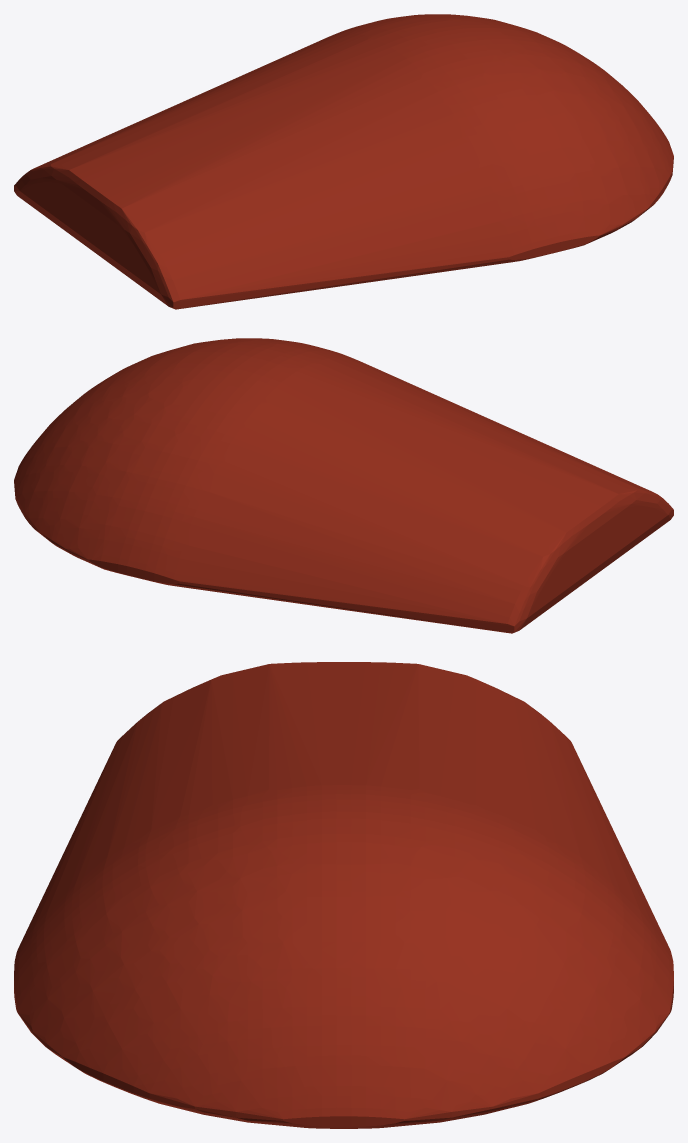
Rendered from left_elbow_link_part_15.obj.
The picture shows the model from 3 angles, top to bottom: view 1: azimuth 30°, elevation 25°; view 2: azimuth 150°, elevation 25°; view 3: azimuth 270°, elevation 25°; orthographic projection. The views are drawn at different scales.
Bounding box in the file's own units: 0.0851 × 0.0195 × 0.0625.
